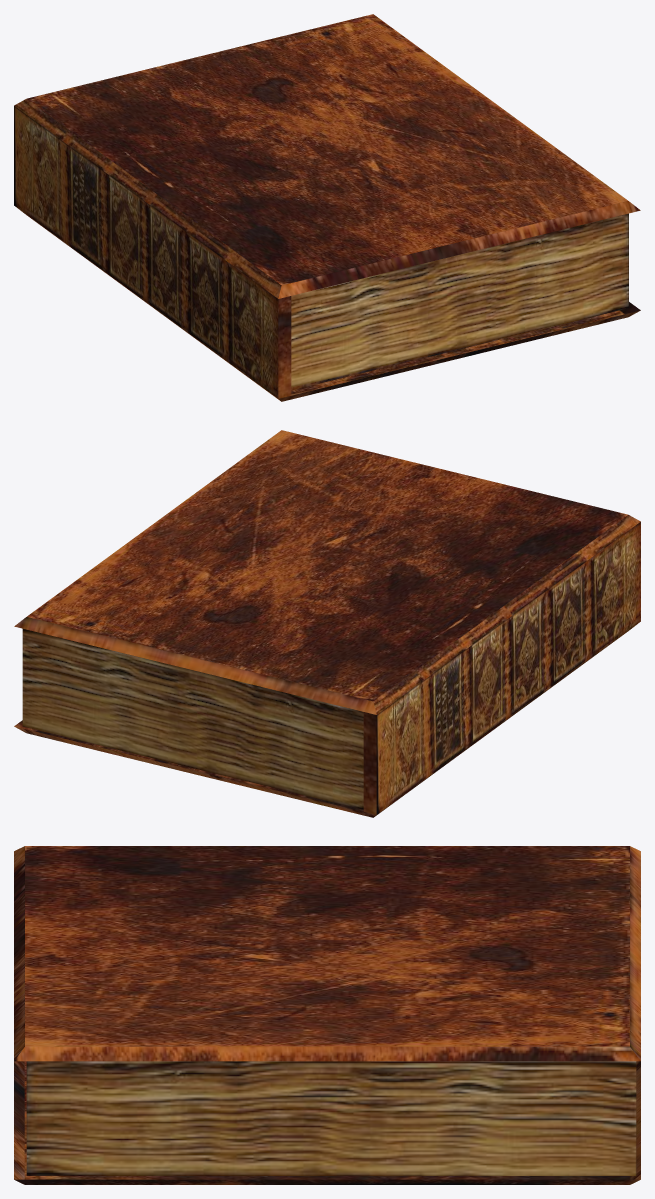
File: Book.glb
3 views of the same model, one above another, from view 1: azimuth 30°, elevation 25°; view 2: azimuth 150°, elevation 25°; view 3: azimuth 270°, elevation 25° (orthographic). The views are drawn at different scales.
Parts seen in each view (by area): view 1: Book; view 2: Book; view 3: Book.
Part boxes in pixels (<box>): Book: <box>14,14,640,401</box>; Book: <box>14,430,640,817</box>; Book: <box>14,846,640,1184</box>.
Bounding box in the file's own units: 1.63 × 0.5 × 2.06.
Materials: 1 (1 with a texture image).
